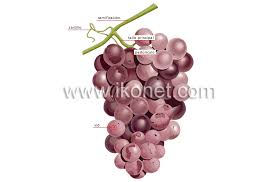Red Grapes: (83, 17, 198, 181)
